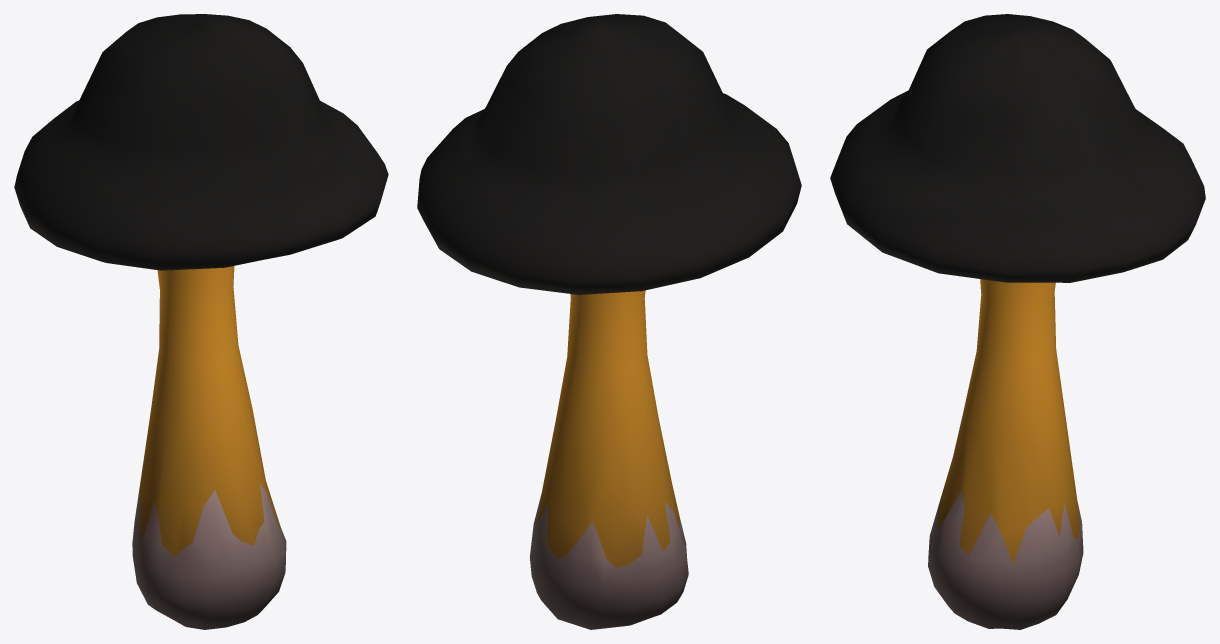
File: Mushroom_0001_0011.fbx
3 renders of one model, left to right at view 1: azimuth 30°, elevation 25°; view 2: azimuth 150°, elevation 25°; view 3: azimuth 270°, elevation 25°, orthographic. The views are drawn at different scales.
Parts seen in each view (by area): view 1: Mushroom_0001_0011; view 2: Mushroom_0001_0011; view 3: Mushroom_0001_0011.
Boxes of the visible parts, x1,y1,x2,y2 form: Mushroom_0001_0011: [14, 14, 388, 629]; Mushroom_0001_0011: [417, 14, 801, 629]; Mushroom_0001_0011: [830, 14, 1205, 629].
Bounding box in the file's own units: 0.1456 × 0.2515 × 0.1467.
1 material, 1 textured.
